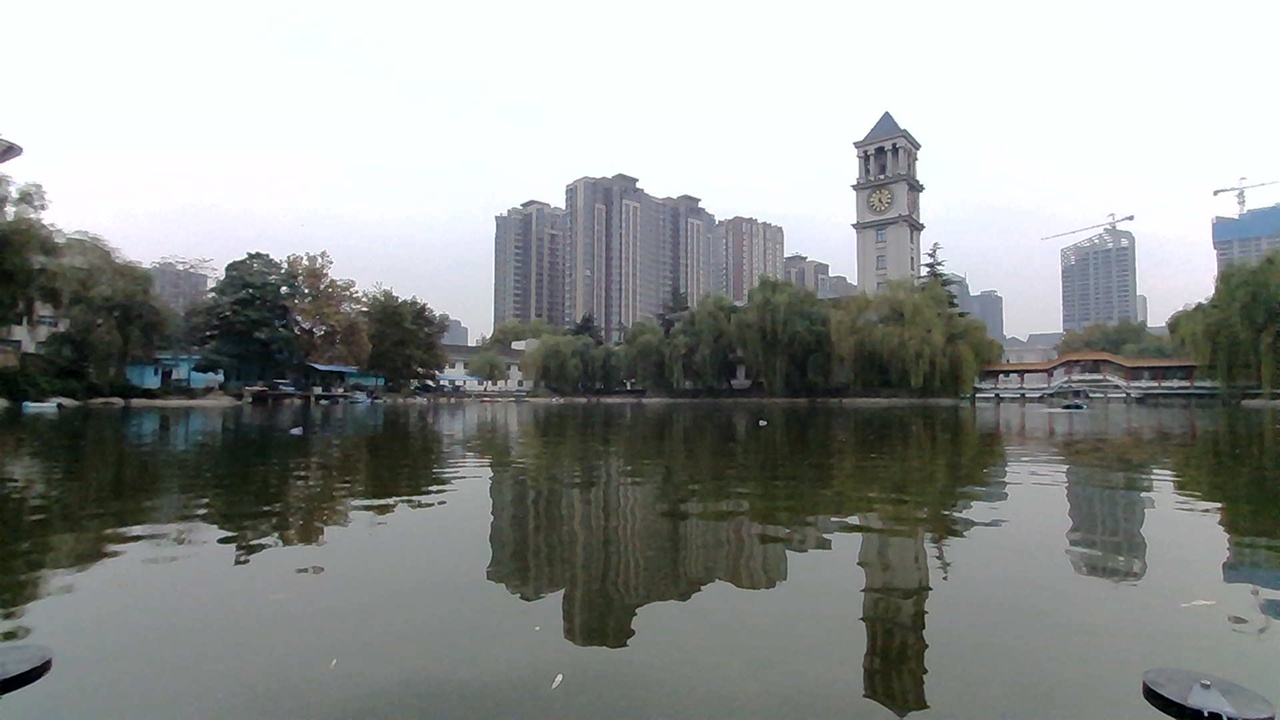bottle: (277, 410, 326, 447), (745, 406, 788, 435)
